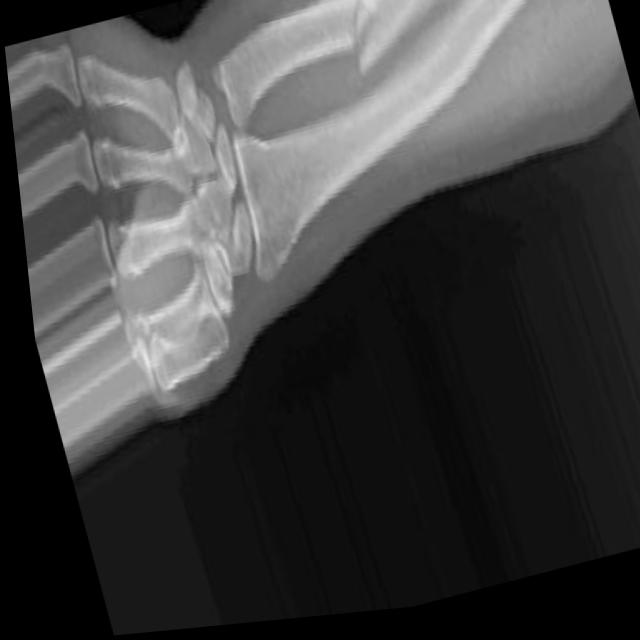fracture: (332, 0, 395, 84)
